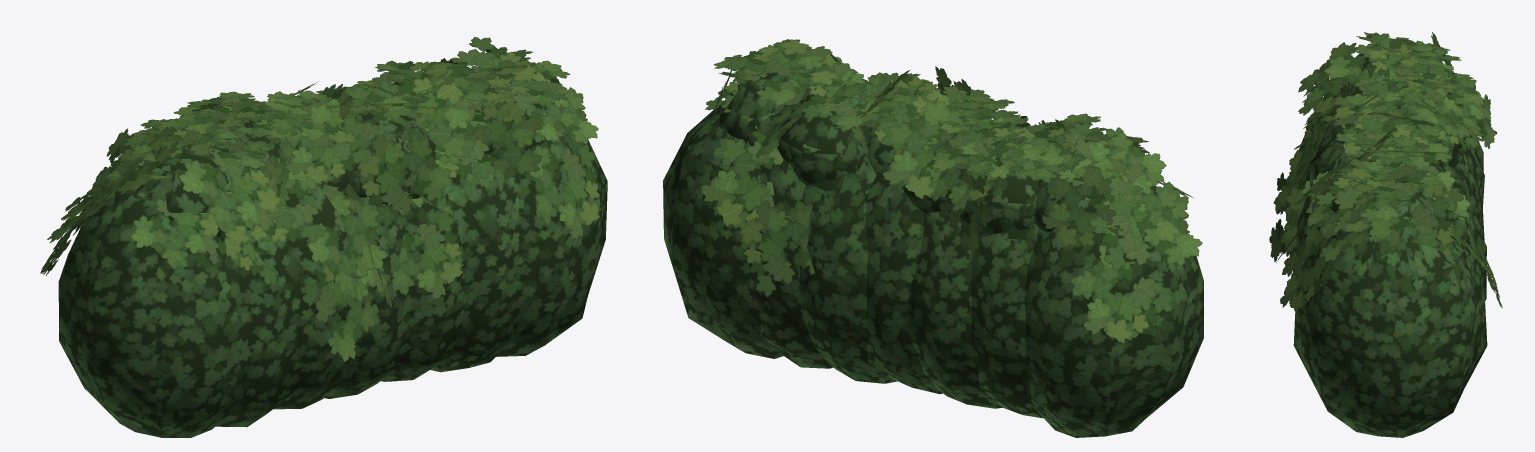
The model's file is hedge.glb.
3 renders of one model, left to right at view 1: azimuth 30°, elevation 25°; view 2: azimuth 150°, elevation 25°; view 3: azimuth 270°, elevation 25°, orthographic. The views are drawn at different scales.
Parts seen in each view (by area): view 1: model; view 2: model; view 3: model.
Part boxes in pixels (x1,y1,x2,y2): model: (40, 37, 607, 437); model: (663, 39, 1203, 437); model: (1269, 32, 1502, 437).
Bounding box in the file's own units: 2.32 × 1.28 × 1.09.
Materials: 2 (2 with a texture image).
